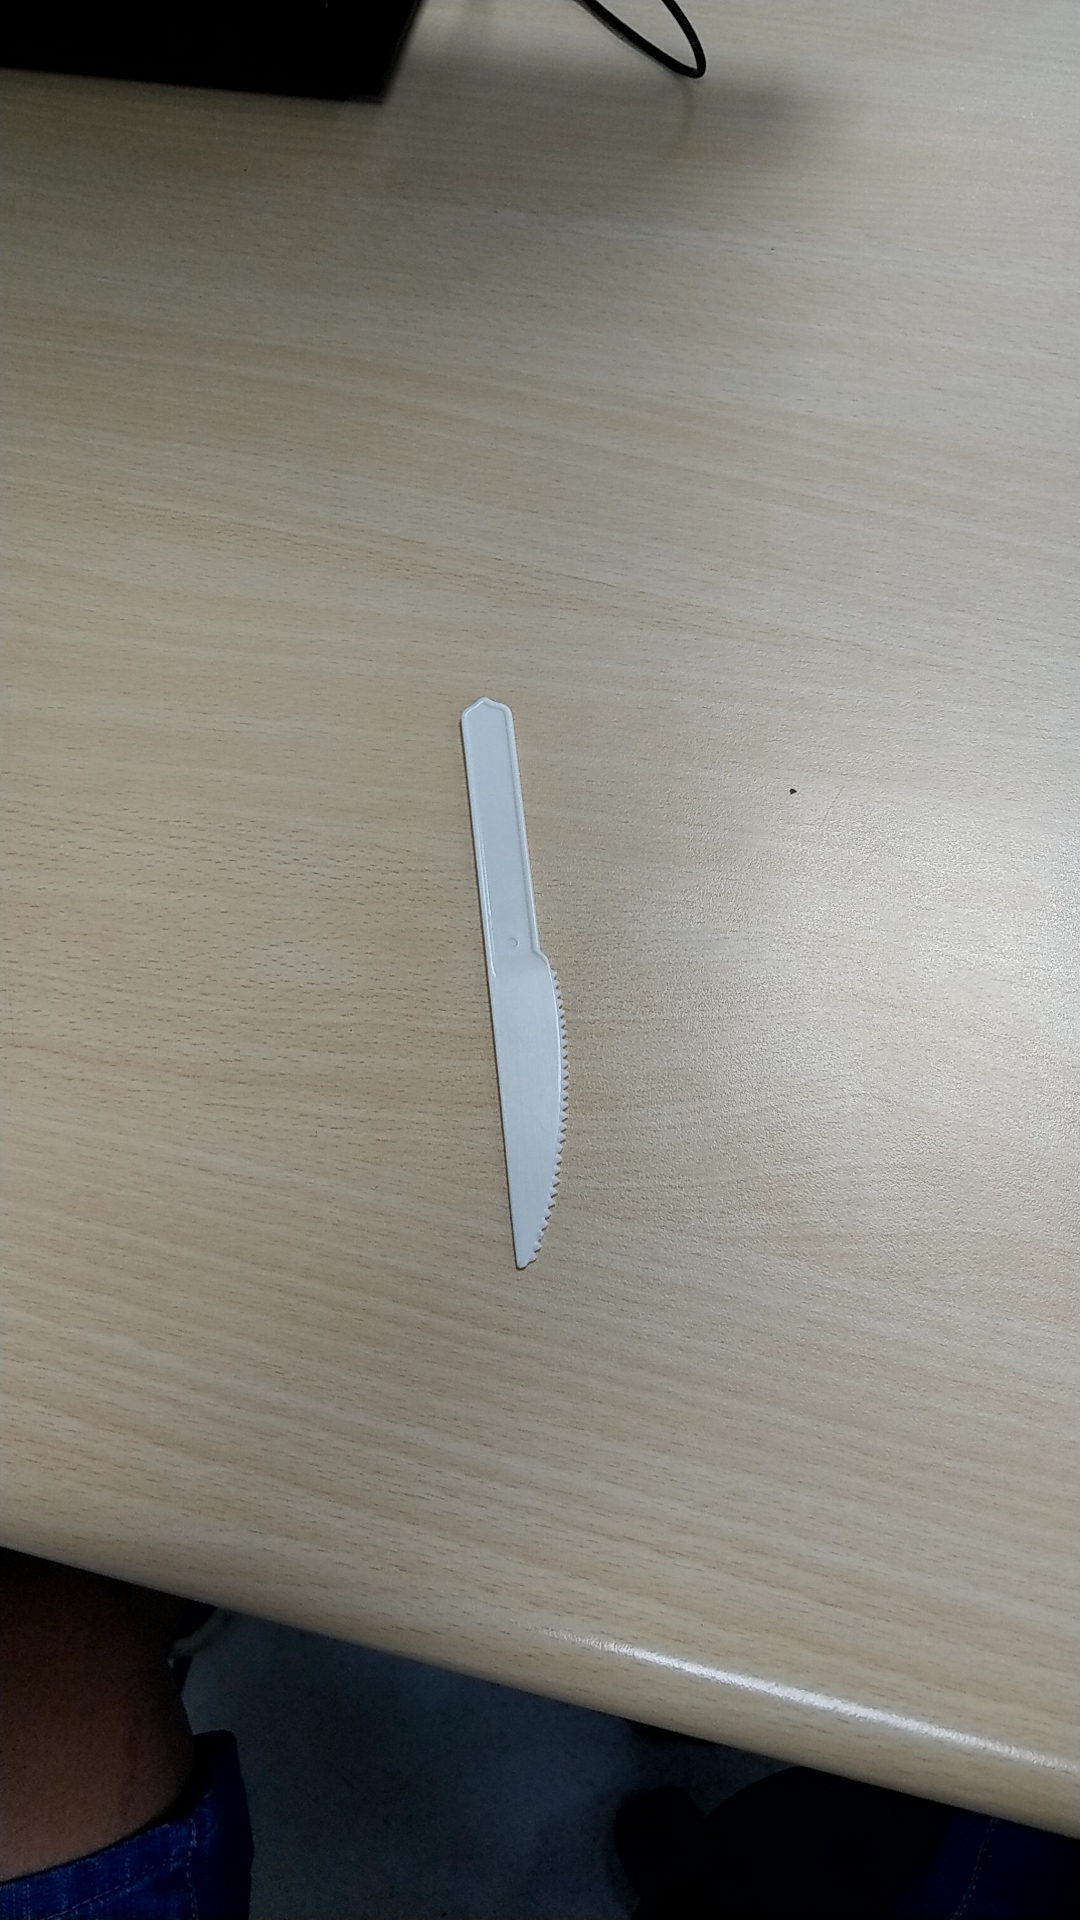knife: (434, 669, 591, 1298)
